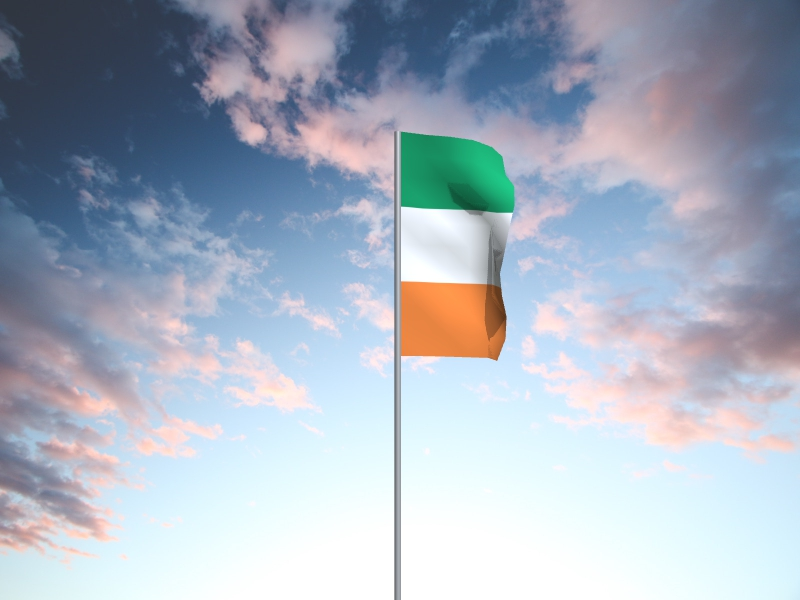ie: (401, 133, 516, 362)
